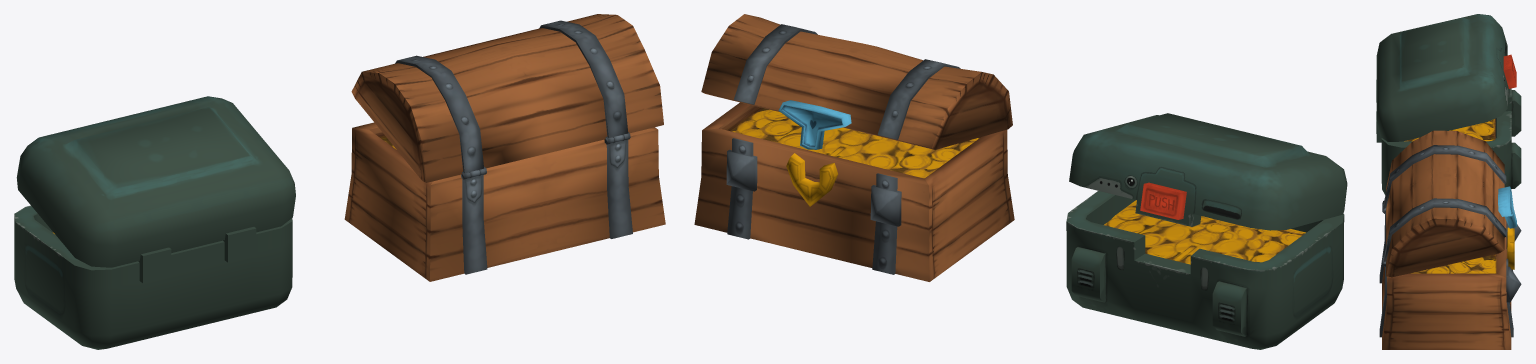
The model's file is reward-crates.glb.
The picture shows the model from 3 angles, left to right: view 1: azimuth 30°, elevation 25°; view 2: azimuth 150°, elevation 25°; view 3: azimuth 270°, elevation 25°; orthographic projection. The views are drawn at different scales.
Visible parts, largest first — view 1: Cube.003, Cube.004; view 2: Cube.003, Cube.004, Cube.006; view 3: Cube.003, Cube.004, Cube.006.
Boxes of the visible parts, x1,y1,x2,y2 form: Cube.003: (344,14,665,281); Cube.004: (14,96,295,349); Cube.003: (694,14,1014,281); Cube.004: (1066,113,1347,349); Cube.006: (1104,200,1305,264); Cube.003: (1379,130,1521,349); Cube.004: (1376,14,1521,194); Cube.006: (1404,118,1495,141).
Bounding box in the file's own units: 9.24 × 2.68 × 2.64.
Materials: 3 (3 with a texture image).
